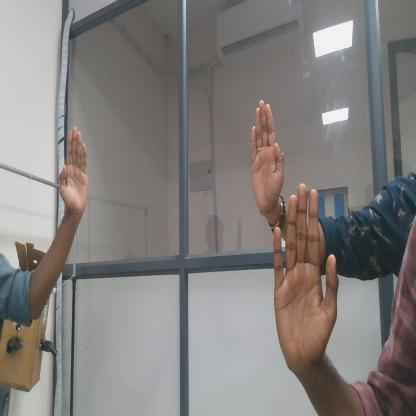Stop: (270, 179, 345, 381), (242, 86, 284, 218), (52, 122, 102, 226)
